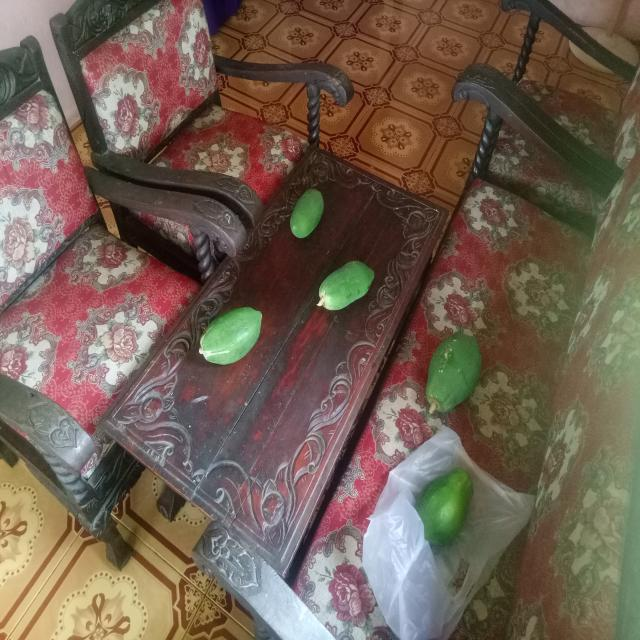Pepaya unrippen: (422, 339, 483, 414), (418, 467, 474, 547), (192, 308, 264, 369), (318, 267, 382, 328), (282, 195, 331, 240)
